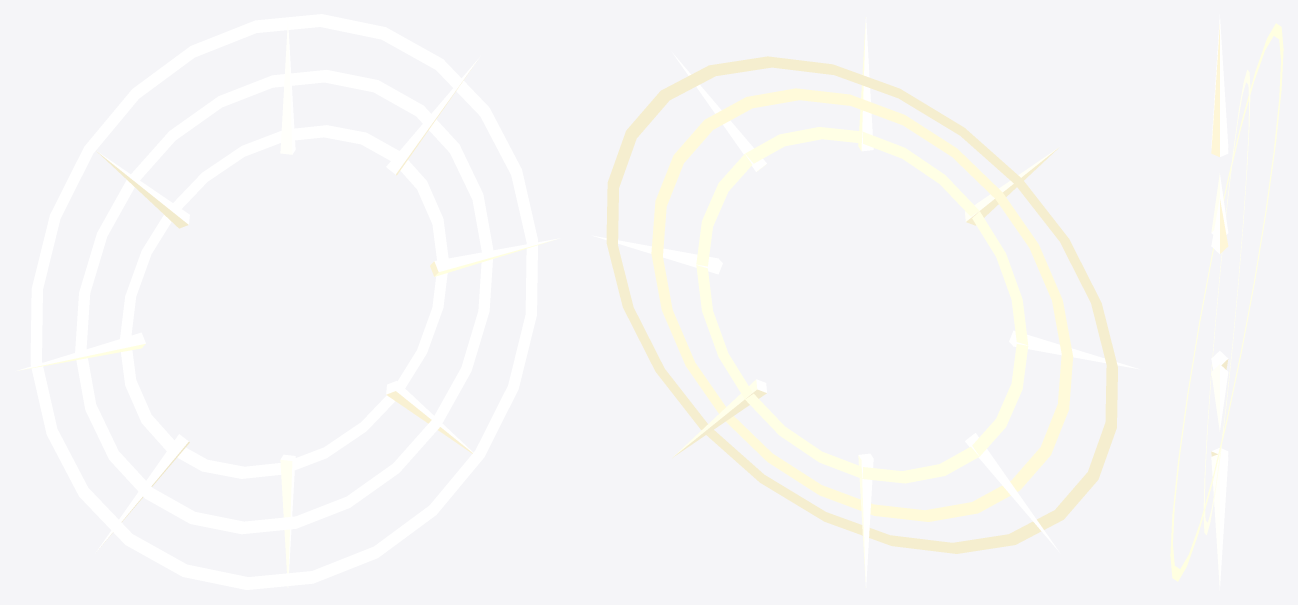
File: YANG_COSMIC_ASCENDANT.glb
3 views of the same model, side by side, from view 1: azimuth 30°, elevation 25°; view 2: azimuth 150°, elevation 25°; view 3: azimuth 270°, elevation 25° (orthographic). The views are drawn at different scales.
Parts seen in each view (by area): view 1: ANI08C_yang_2_definition_halo2, ANI08C_yang_2_definition_halo1, ANI08C_yang_2_definition_halo0, ANI08C_yang_2_construct_ray2, ANI08C_yang_2_construct_ray4, ANI08C_yang_2_construct_ray0, ANI08C_yang_2_construct_ray3, ANI08C_yang_2_construct_ray1, ANI08C_yang_2_construct_ray6, ANI08C_yang_2_construct_ray7, ANI08C_yang_2_construct_ray5; view 2: ANI08C_yang_2_definition_halo2, ANI08C_yang_2_definition_halo1, ANI08C_yang_2_definition_halo0, ANI08C_yang_2_construct_ray6, ANI08C_yang_2_construct_ray7, ANI08C_yang_2_construct_ray5, ANI08C_yang_2_construct_ray0, ANI08C_yang_2_construct_ray4, ANI08C_yang_2_construct_ray2, ANI08C_yang_2_construct_ray1, ANI08C_yang_2_construct_ray3; view 3: ANI08C_yang_2_definition_halo2, ANI08C_yang_2_definition_halo1, ANI08C_yang_2_construct_ray7, ANI08C_yang_2_construct_ray2, ANI08C_yang_2_construct_ray0, ANI08C_yang_2_construct_ray1, ANI08C_yang_2_construct_ray4, ANI08C_yang_2_construct_ray3, ANI08C_yang_2_construct_ray5.
Part boxes in pixels (x1,y1,x2,y2): ANI08C_yang_2_definition_halo2: (30, 14, 537, 589); ANI08C_yang_2_definition_halo1: (75, 70, 493, 534); ANI08C_yang_2_definition_halo0: (120, 125, 448, 478); ANI08C_yang_2_construct_ray2: (280, 21, 295, 154); ANI08C_yang_2_construct_ray4: (17, 332, 145, 370); ANI08C_yang_2_construct_ray0: (430, 238, 559, 276); ANI08C_yang_2_construct_ray3: (95, 150, 189, 228); ANI08C_yang_2_construct_ray1: (386, 57, 479, 175); ANI08C_yang_2_construct_ray6: (280, 454, 295, 587); ANI08C_yang_2_construct_ray7: (386, 381, 473, 453); ANI08C_yang_2_construct_ray5: (96, 434, 189, 552); ANI08C_yang_2_definition_halo2: (606, 56, 1117, 553); ANI08C_yang_2_definition_halo1: (651, 88, 1073, 521); ANI08C_yang_2_definition_halo0: (696, 127, 1028, 483); ANI08C_yang_2_construct_ray6: (858, 453, 873, 587); ANI08C_yang_2_construct_ray7: (672, 379, 766, 457); ANI08C_yang_2_construct_ray5: (965, 433, 1059, 552); ANI08C_yang_2_construct_ray0: (592, 235, 722, 274); ANI08C_yang_2_construct_ray4: (1009, 330, 1139, 369); ANI08C_yang_2_construct_ray2: (858, 17, 873, 151); ANI08C_yang_2_construct_ray1: (672, 52, 766, 171); ANI08C_yang_2_construct_ray3: (965, 147, 1059, 225); ANI08C_yang_2_definition_halo2: (1170, 23, 1283, 581); ANI08C_yang_2_definition_halo1: (1203, 70, 1250, 534); ANI08C_yang_2_construct_ray7: (1211, 454, 1228, 590); ANI08C_yang_2_construct_ray2: (1211, 25, 1228, 156); ANI08C_yang_2_construct_ray0: (1211, 364, 1228, 431); ANI08C_yang_2_construct_ray1: (1211, 198, 1228, 253); ANI08C_yang_2_construct_ray4: (1211, 173, 1228, 234); ANI08C_yang_2_construct_ray3: (1211, 14, 1228, 147); ANI08C_yang_2_construct_ray5: (1211, 351, 1228, 369).
Bounding box in the file's own units: 0.86 × 0.86 × 0.1585.
